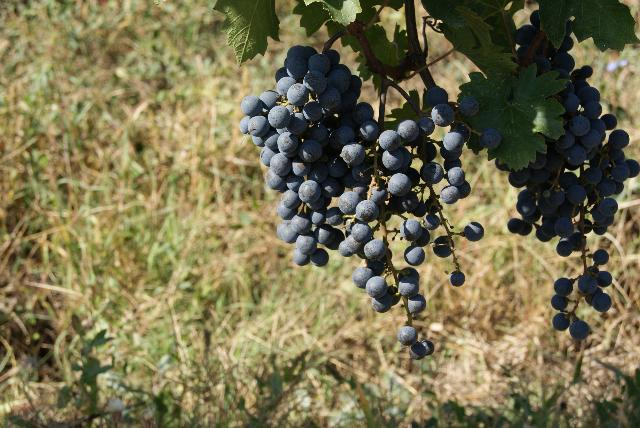grapes: (495, 19, 640, 341), (240, 45, 372, 266), (358, 116, 470, 359)
